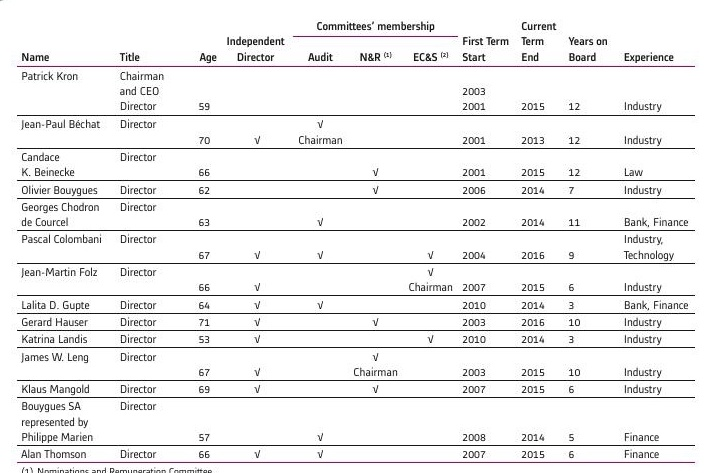table: (0, 0, 715, 473)
